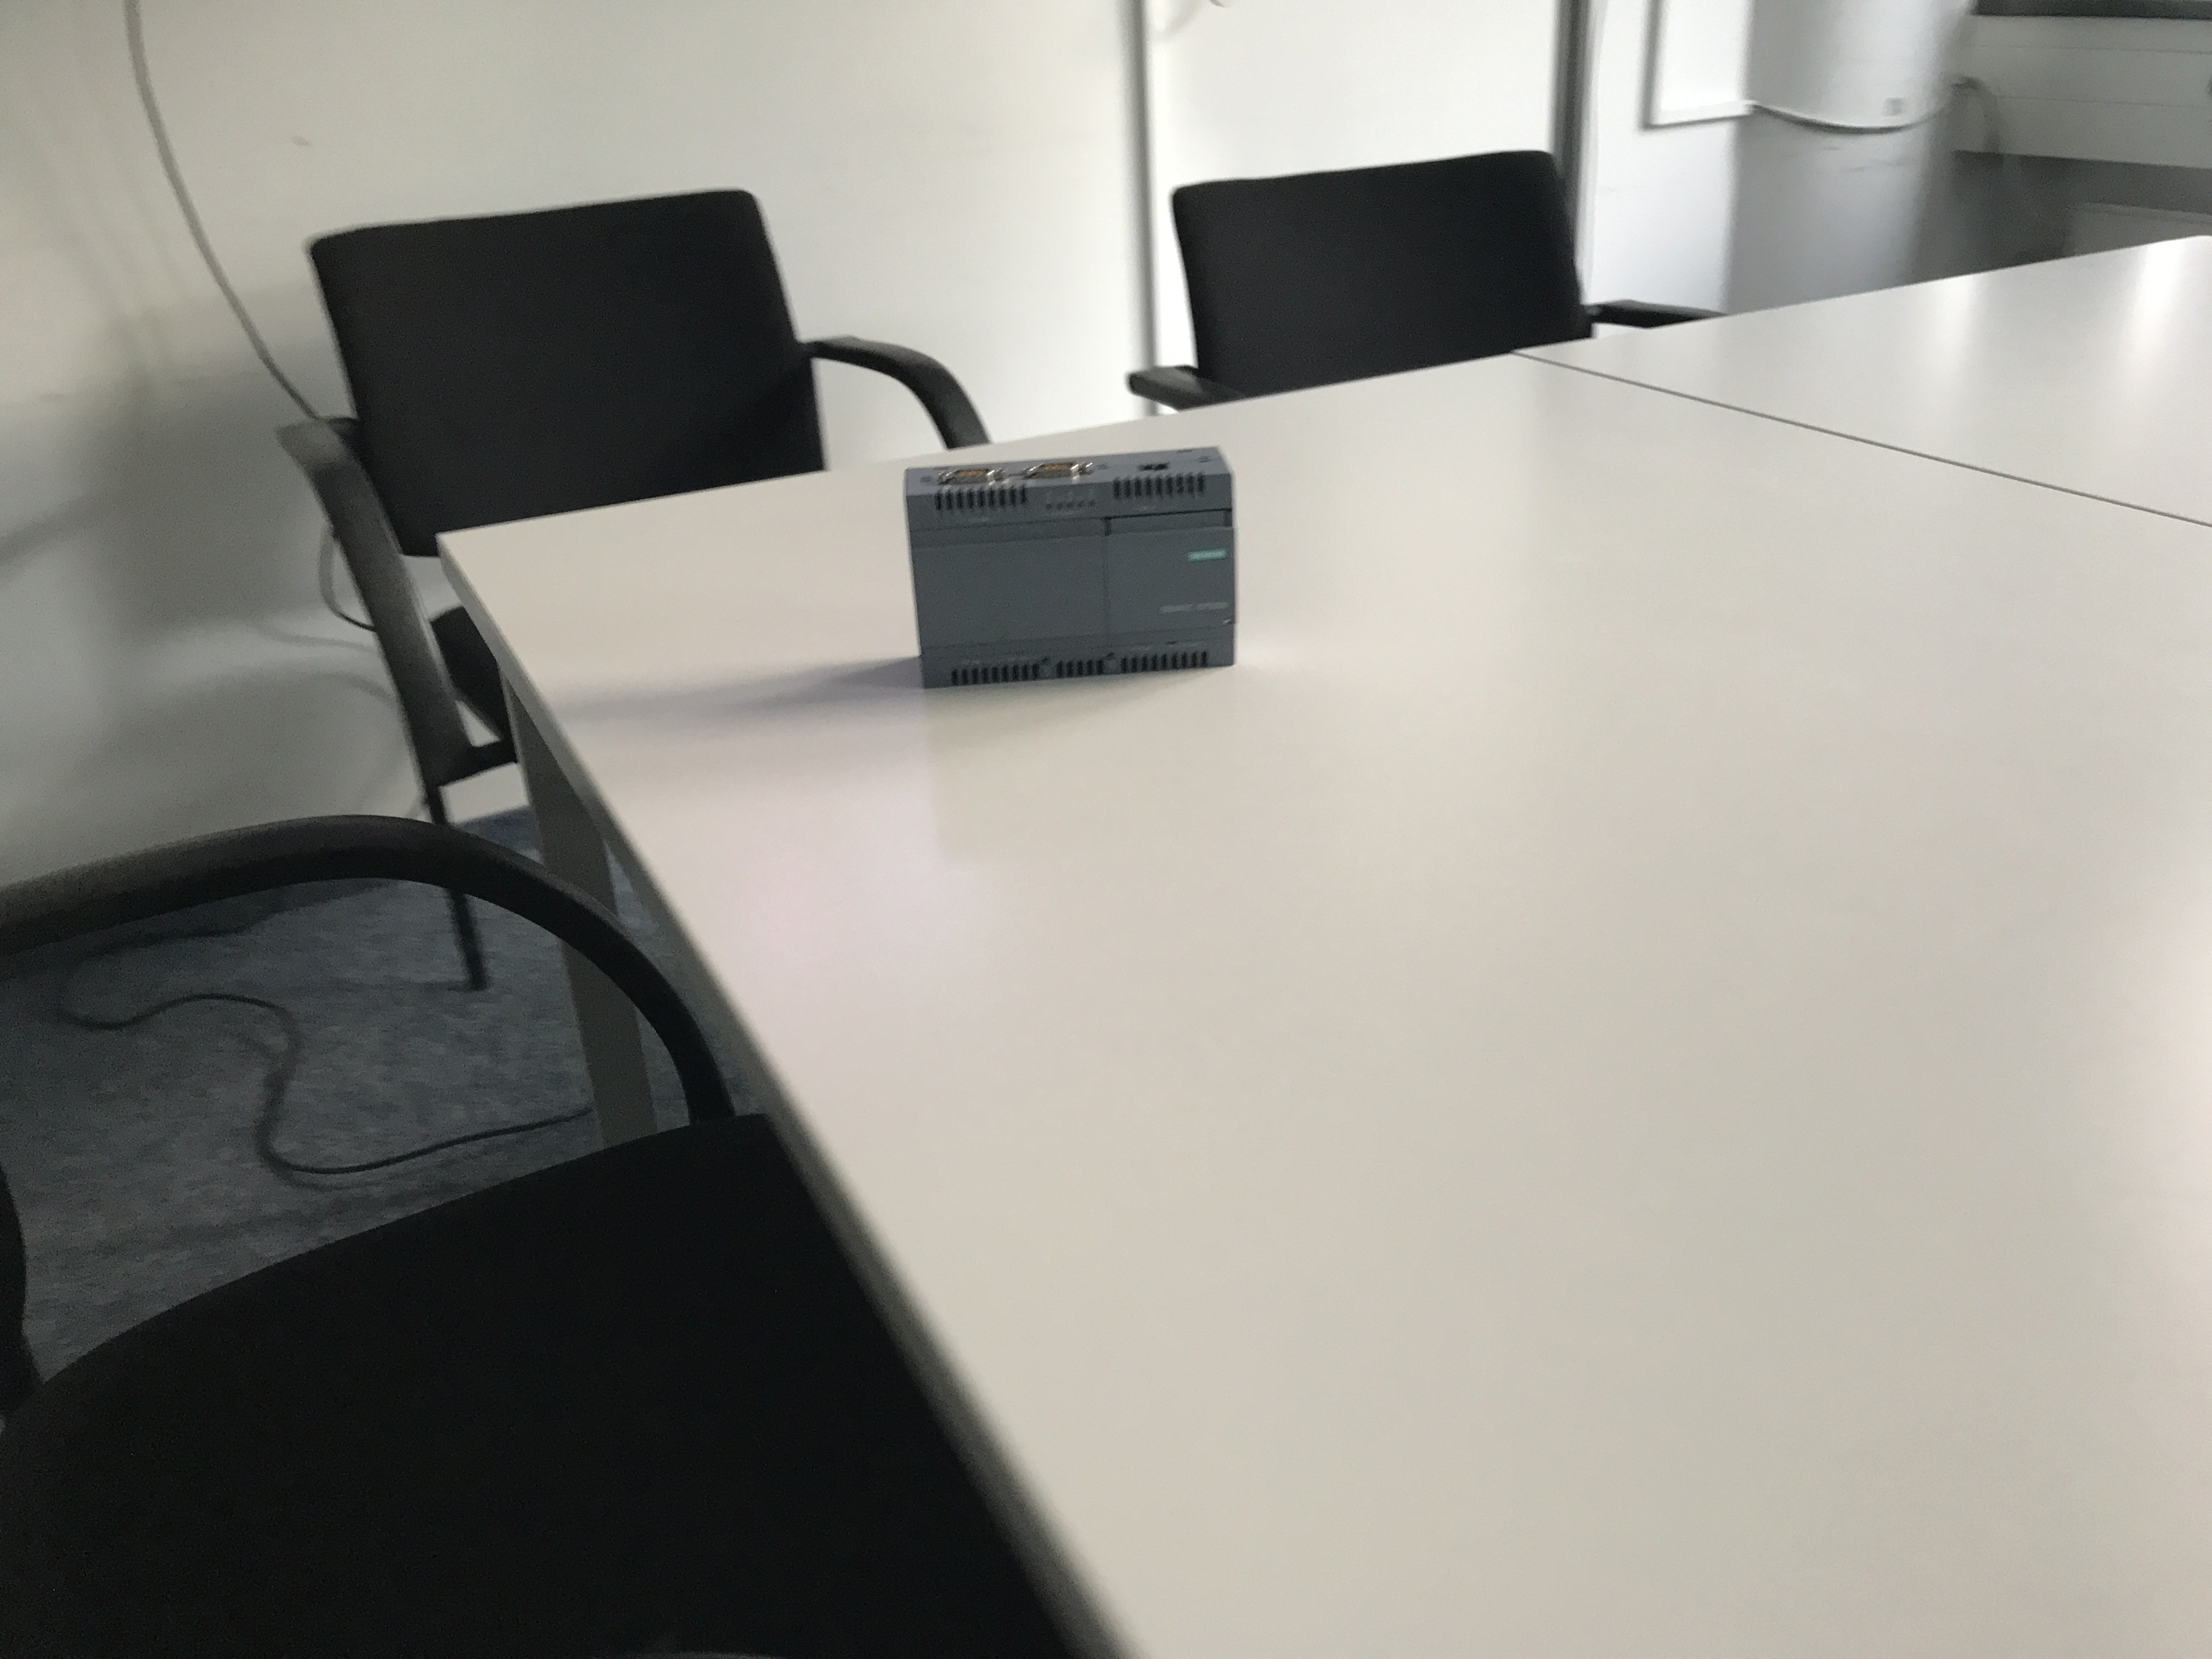device: (904, 446, 1237, 688)
